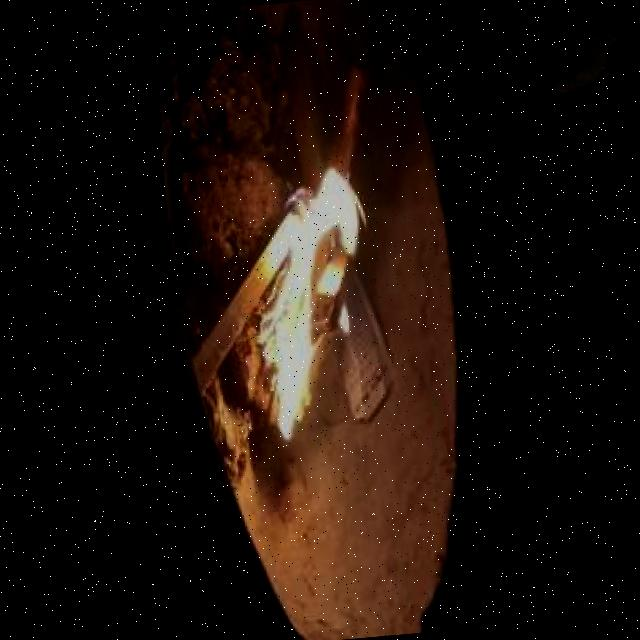fire: (228, 144, 385, 442)
